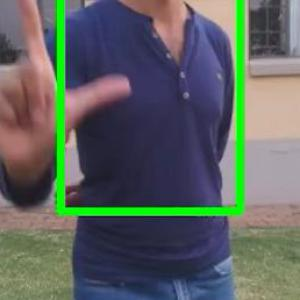land_hand: (0, 0, 141, 184)
